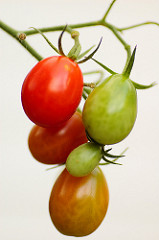tomato: (19, 52, 82, 127), (52, 166, 111, 240), (84, 73, 141, 145), (26, 113, 85, 161), (67, 145, 101, 173)
